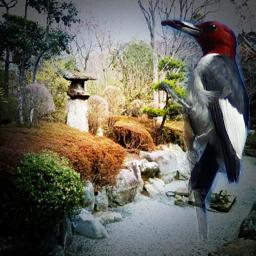Woodpecker: (161, 17, 250, 242)
